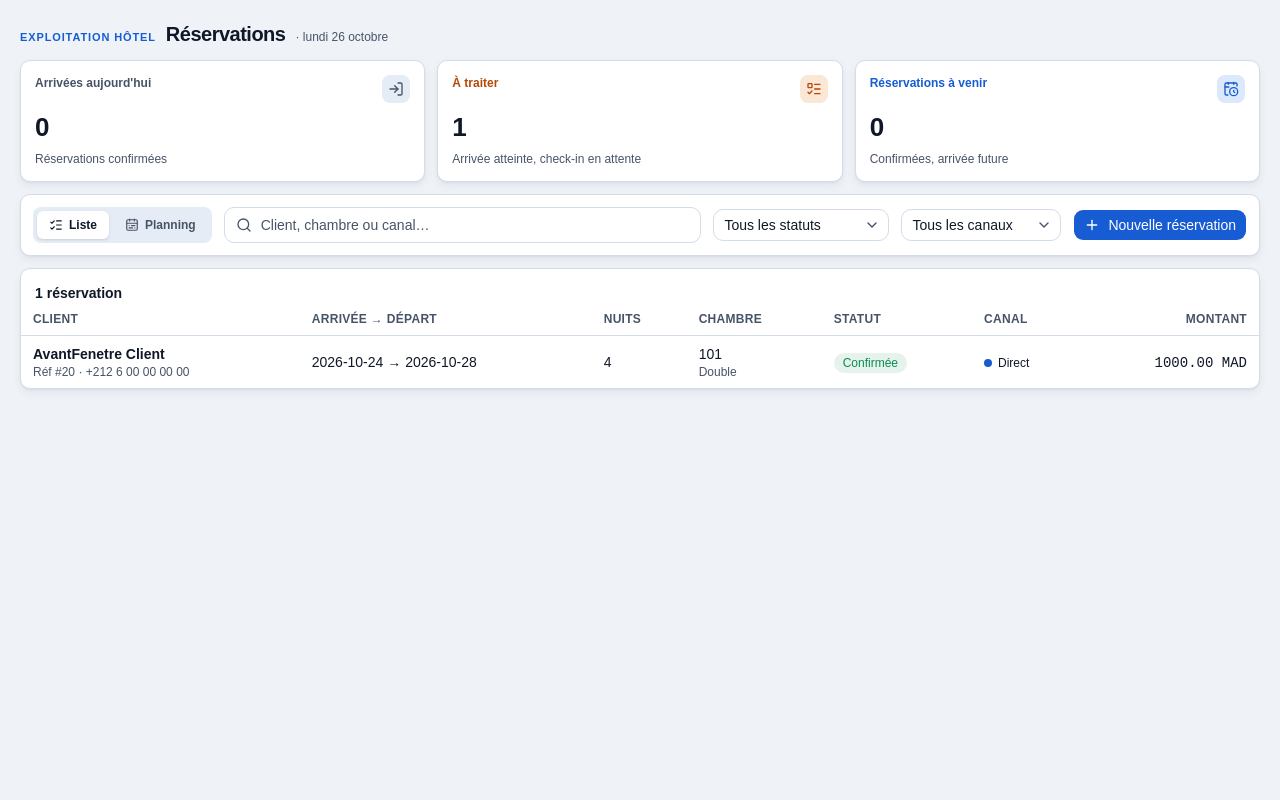
ReservationsCalendarPage — panneau contextuel › ouvre le panneau au clic sur une réservation et affiche la consultation
Click the button with aria-label "Ouvrir la réservation de AvantFenetre Client": (77, 354) [21,336,1259,388]
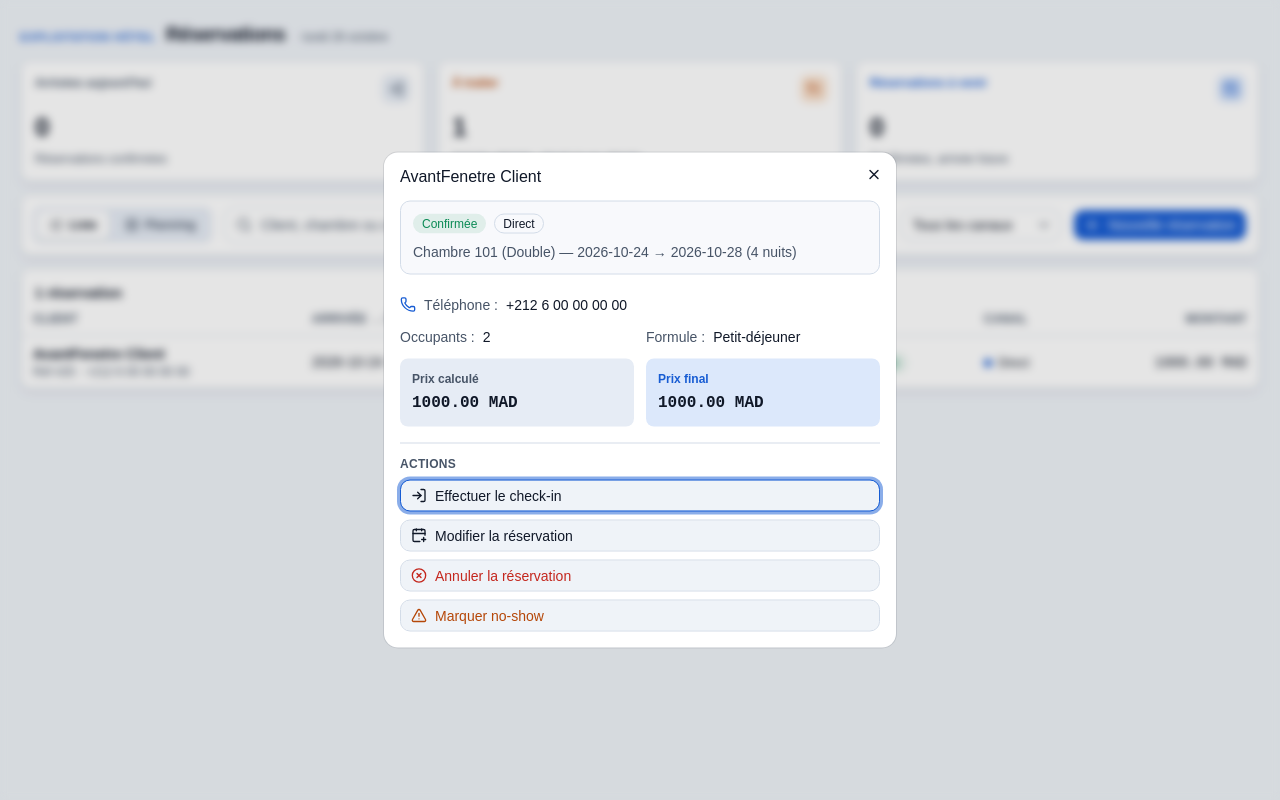
expect the heading "AvantFenetre Client" is shown: met, box [400,168,541,184]
expect the text "Actions" is shown: met, box [400,456,456,470]
